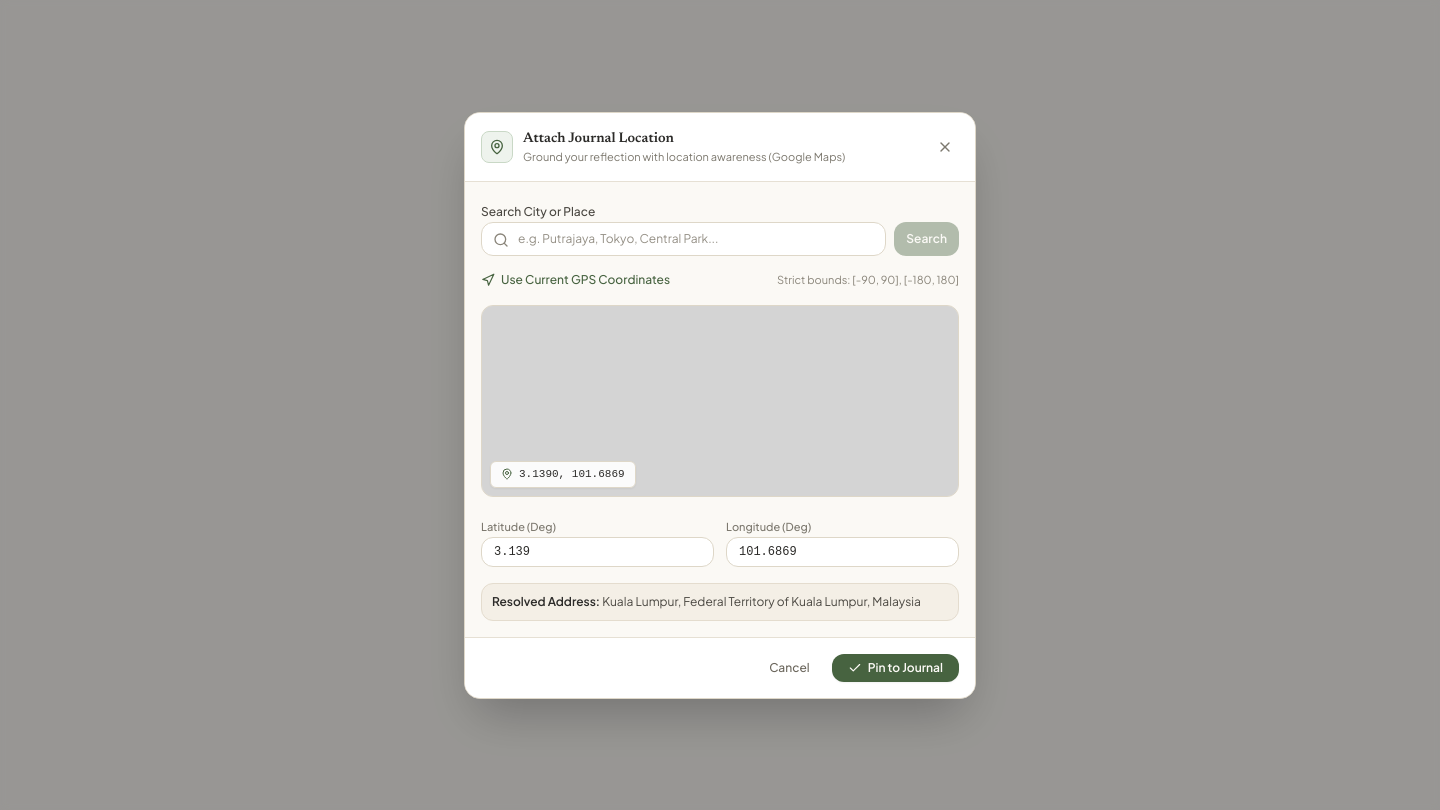
Scenario: LocationPickerModal › address search › surfaces the server's rejection message
Type "x" into the field with placeholder "e.g. Putrajaya, Tokyo, Central Park...". click: (684, 239)
box: [481, 222, 886, 256]
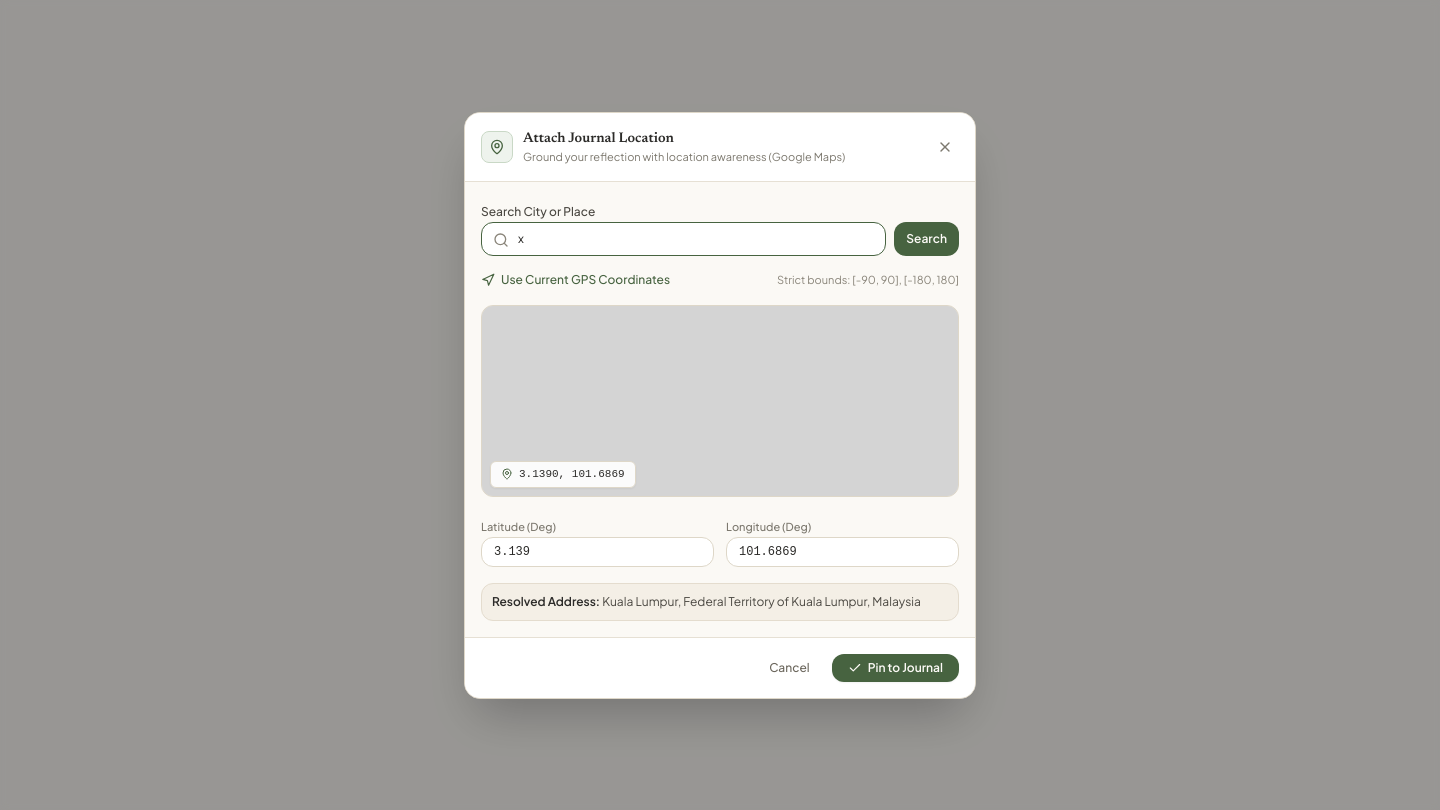
Click the button "Search". click: (927, 239)
box: [894, 222, 959, 256]
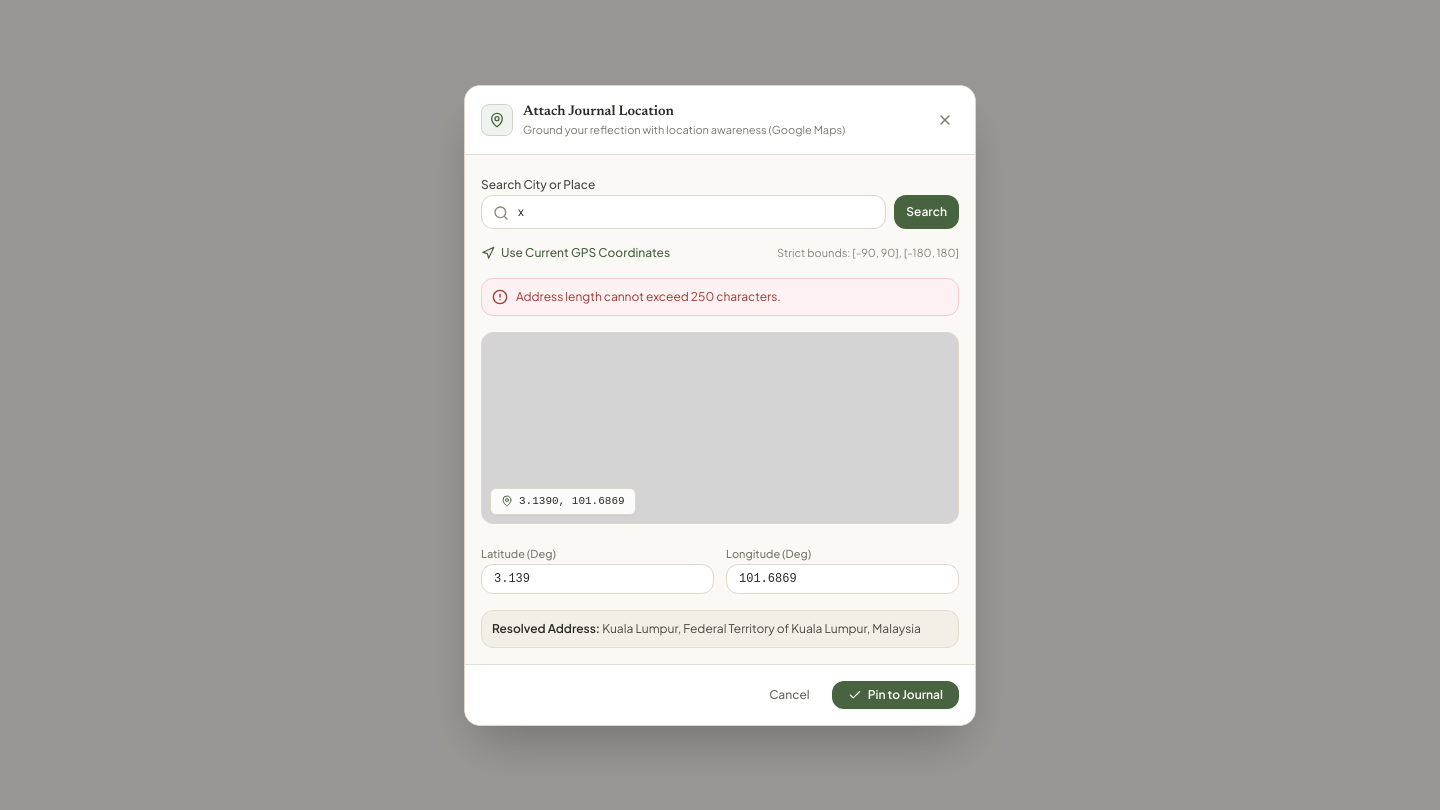
Expected: the text "Address length cannot exceed 250 characters." is shown, [516, 288, 781, 304]
